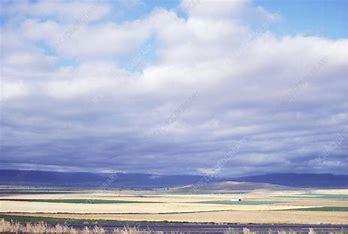Stratus: (2, 38, 348, 170)
